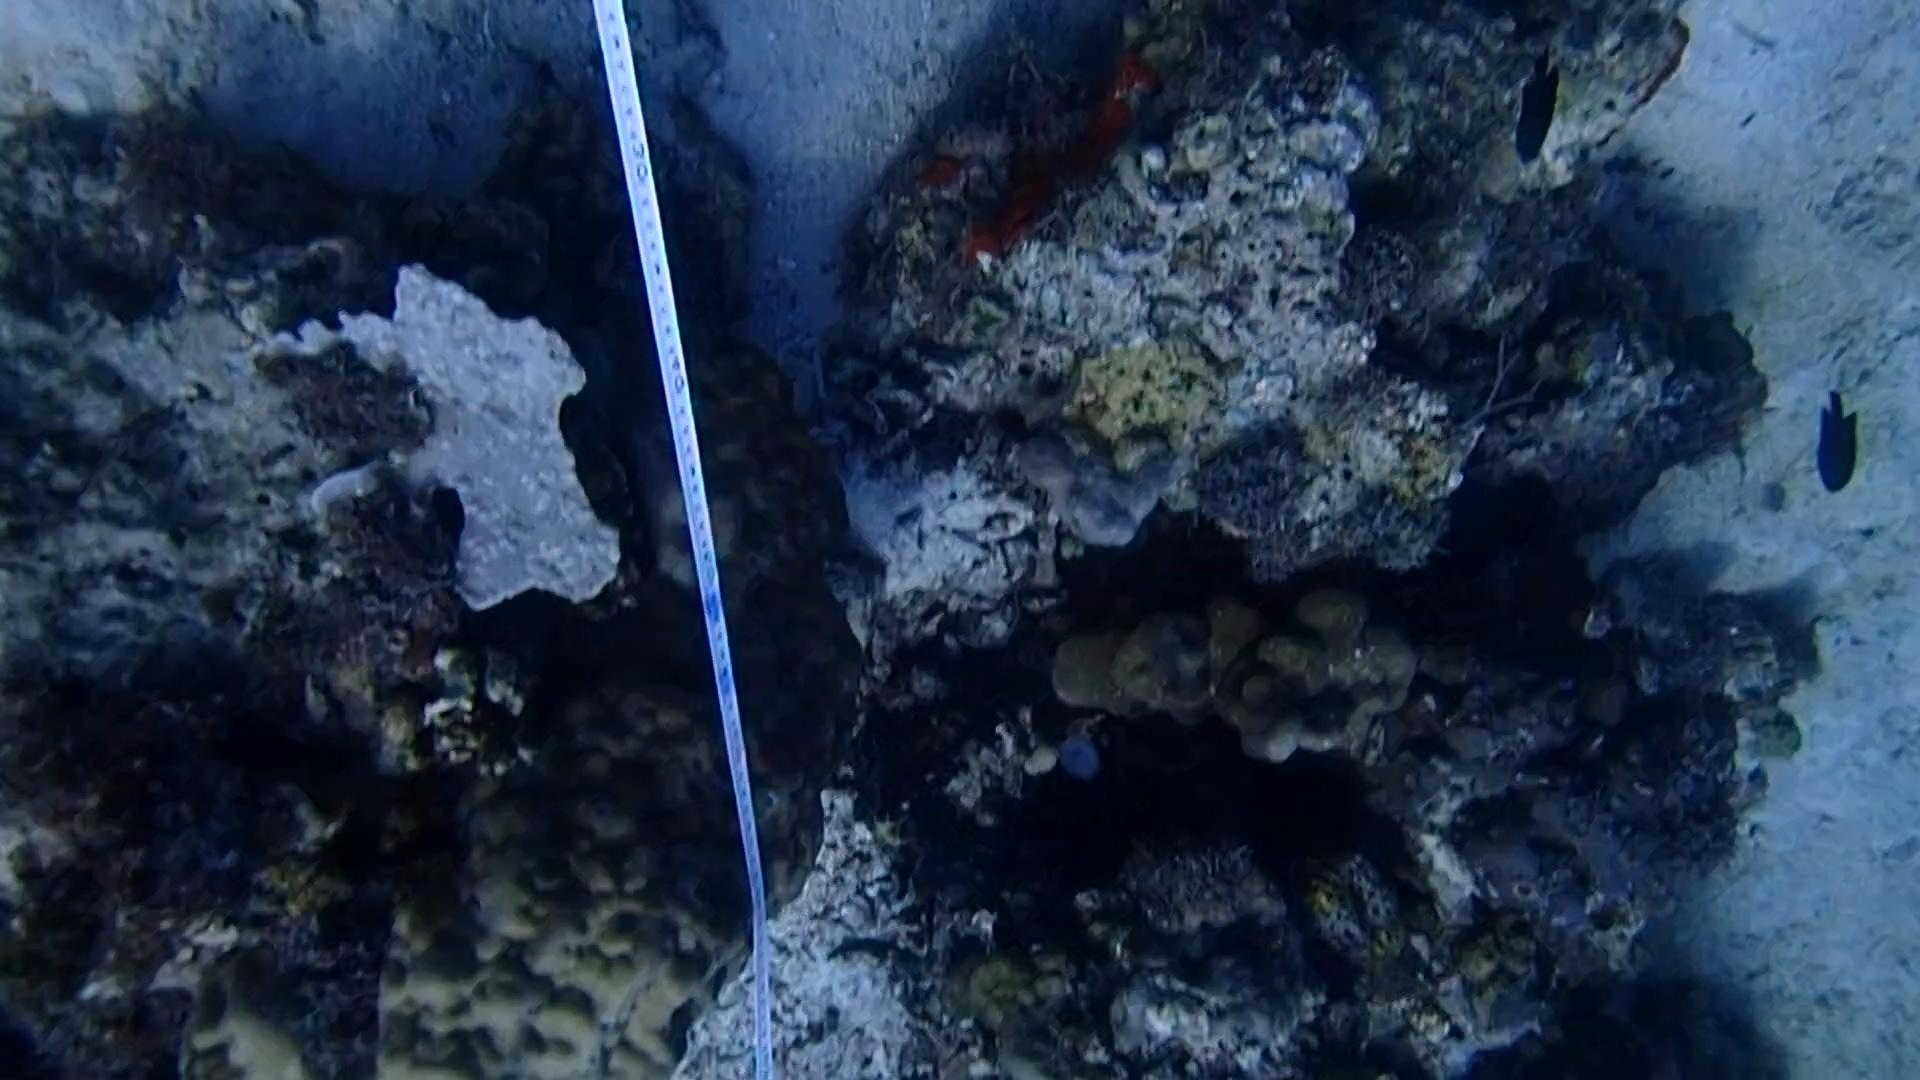Dark Fish: (1498, 51, 1571, 174), (1801, 377, 1866, 512)
